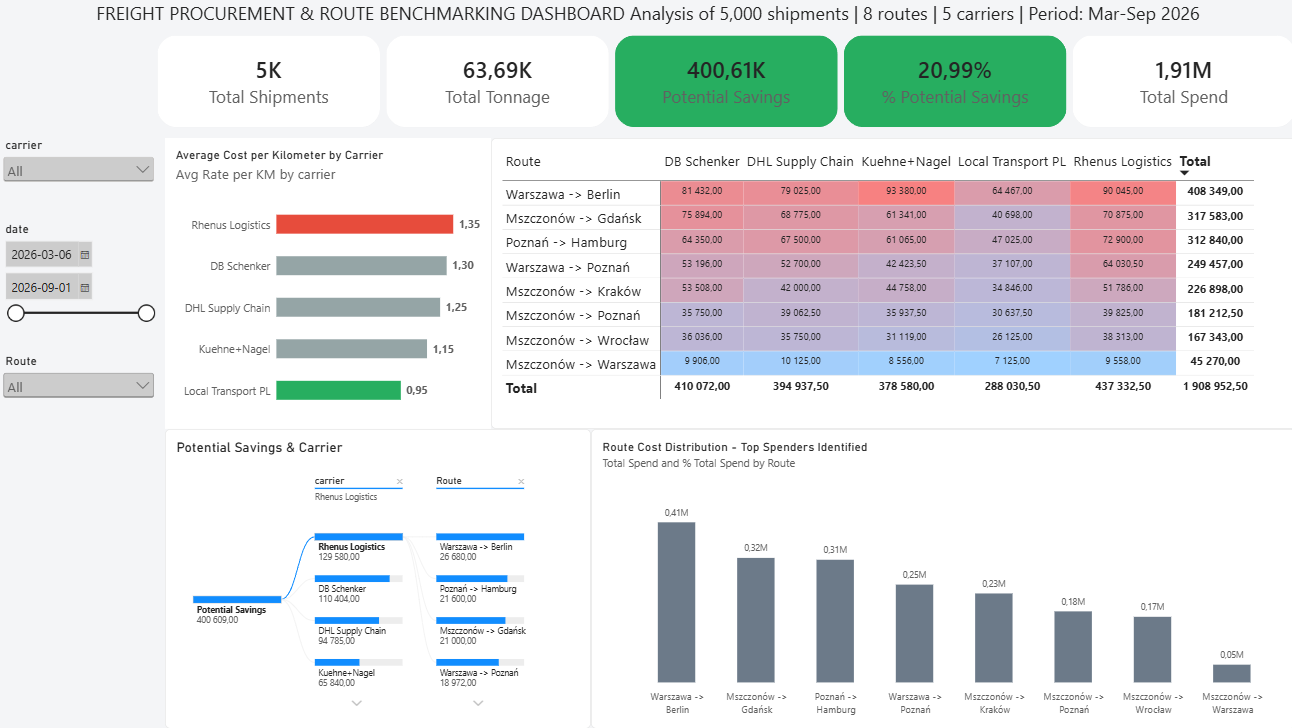

What the dashboard file says about the page in this screenshot:
{"tool":"powerbi","page":{"name":"Page 1","canvas":[1920,1080],"ordinal":0},"visuals":[{"type":"cardVisual","fields":{"Data":["_Measures.Total Shipments","_Measures.Total Tonnage","_Measures.Potential Savings","_Measures.% Potential Savings","_Measures.Total Spend"]},"box":[233,51.8,1687,137],"z":0},{"type":"slicer","fields":{"Values":["freight_db shipments.Route"]},"box":[0,523.8,233,124.9],"z":1000},{"type":"slicer","fields":{"Values":["freight_db carriers.name"]},"box":[0,204,233,124.9],"z":2000},{"type":"slicer","fields":{"Values":["freight_db shipments.date"]},"box":[0,328.9,233,169],"z":3000},{"type":"clusteredBarChart","title":"Average Cost per Kilometer by Carrier","fields":{"Category":["freight_db carriers.name"],"Y":["_Measures.Avg Rate per KM"]},"box":[244.4,204.4,483,431.1],"z":4000},{"type":"pivotTable","fields":{"Columns":["freight_db carriers.name"],"Rows":["freight_db shipments.Route"],"Values":["_Measures.Total Spend"]},"box":[727.4,204.4,1192.6,431.1],"z":5000},{"type":"clusteredColumnChart","title":"Route Cost Distribution - Top Spenders Identified","fields":{"Category":["freight_db shipments.Route"],"Y":["_Measures.Total Spend"]},"box":[875.6,635.6,1044.4,444.4],"z":6000},{"type":"decompositionTreeVisual","title":"Potential Savings & Carrier","fields":{"Analyze":["_Measures.Potential Savings"],"ExplainBy":["freight_db carriers.carrier","freight_db shipments.Route"]},"box":[244.4,635.6,631.1,444.4],"z":7000},{"type":"textbox","box":[0,0,1920,38.1],"z":8000}]}

Visuals, with their boxes in screenshot pixels (x1, y1, x2, y2), scaled from the page's 1920x1080 canvas onto the 1292x728 screenshot:
cardVisual - _Measures.Total Shipments x _Measures.Total Tonnage: pyautogui.locateOnScreen(157, 35, 1291, 127)
slicer - freight_db shipments.Route: pyautogui.locateOnScreen(0, 353, 157, 437)
slicer - freight_db carriers.name: pyautogui.locateOnScreen(0, 138, 157, 222)
slicer - freight_db shipments.date: pyautogui.locateOnScreen(0, 222, 157, 336)
"Average Cost per Kilometer by Carrier" clusteredBarChart: pyautogui.locateOnScreen(164, 138, 489, 428)
pivotTable - freight_db carriers.name x freight_db shipments.Route: pyautogui.locateOnScreen(489, 138, 1291, 428)
"Route Cost Distribution - Top Spenders Identified" clusteredColumnChart: pyautogui.locateOnScreen(589, 428, 1291, 727)
"Potential Savings & Carrier" decompositionTreeVisual: pyautogui.locateOnScreen(164, 428, 589, 727)
textbox: pyautogui.locateOnScreen(0, 0, 1291, 26)
